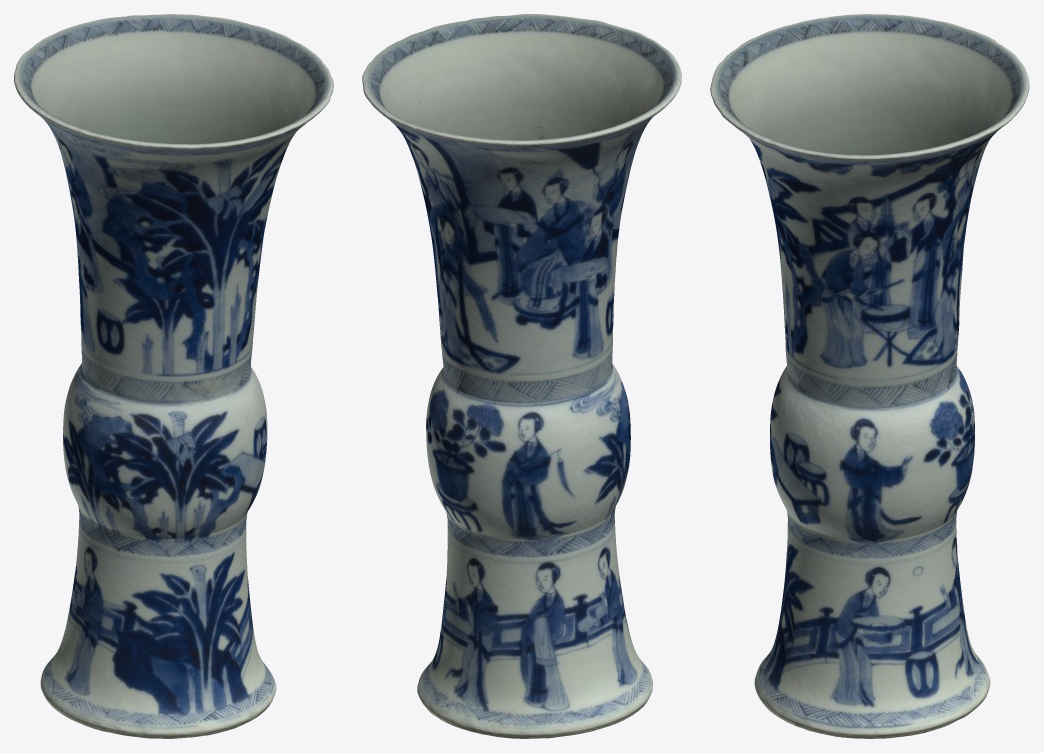
Rendered from si-d8c64b96-4ebc-11ea-b77f-2e728ce88125.glb.
The picture shows the model from 3 angles, left to right: view 1: azimuth 30°, elevation 25°; view 2: azimuth 150°, elevation 25°; view 3: azimuth 270°, elevation 25°; orthographic projection.
Visible parts, largest first — view 1: GLTF; view 2: GLTF; view 3: GLTF.
Part boxes in pixels (<box>): GLTF: <box>14,14,333,738</box>; GLTF: <box>362,14,681,738</box>; GLTF: <box>710,14,1029,738</box>.
Size of the model in its own units: 14.09 by 30 by 14.04.
Materials: 1 (1 with a texture image).
